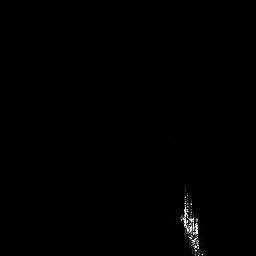ship: (179, 186, 207, 256)
